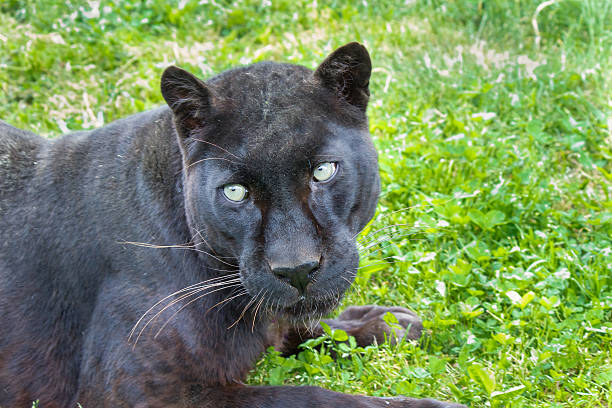panther: (118, 35, 405, 350)
